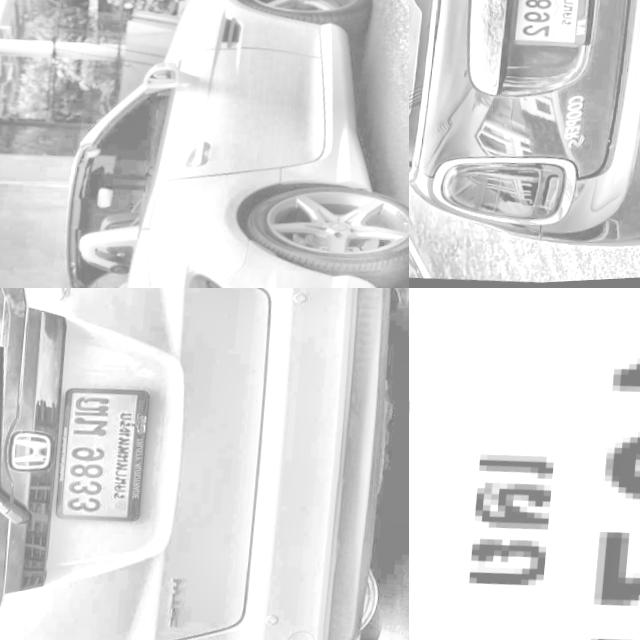license-plate: (409, 288, 640, 640), (51, 386, 152, 532), (502, 0, 600, 54)
